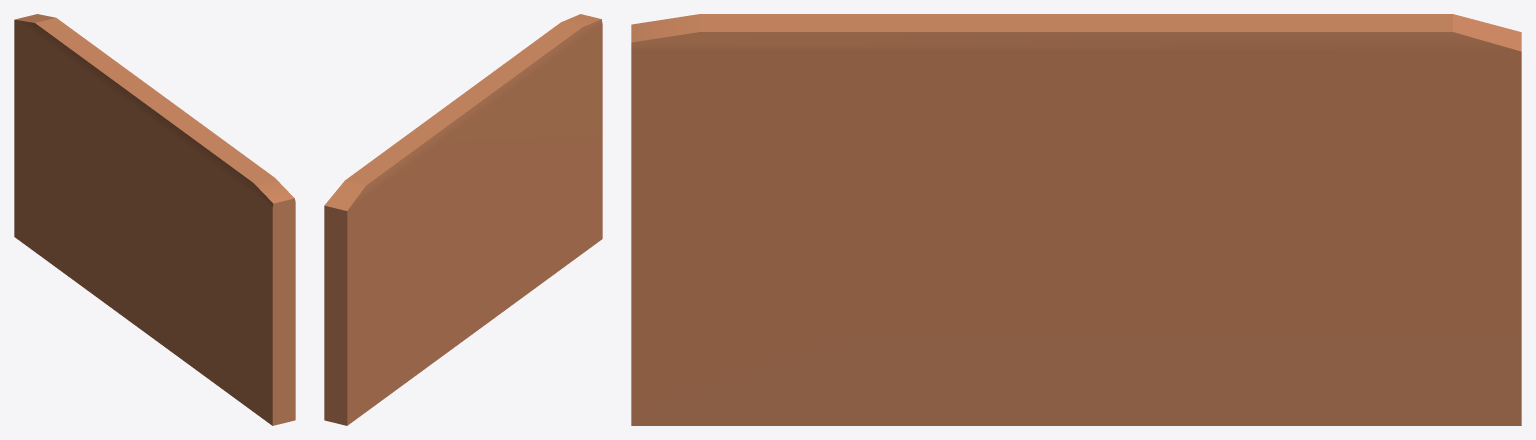
The model's file is EscapePodDoor.fbx.
3 renders of one model, left to right at view 1: azimuth 30°, elevation 25°; view 2: azimuth 150°, elevation 25°; view 3: azimuth 270°, elevation 25°, orthographic. The views are drawn at different scales.
Visible parts, largest first — view 1: ExtDoor_R1; view 2: ExtDoor_R1; view 3: ExtDoor_R1.
Part boxes in pixels (<box>): ExtDoor_R1: <box>14,14,295,425</box>; ExtDoor_R1: <box>324,14,602,425</box>; ExtDoor_R1: <box>631,14,1521,425</box>.
Bounding box in the file's own units: 25.85 × 244 × 500.
1 material, 1 textured.
